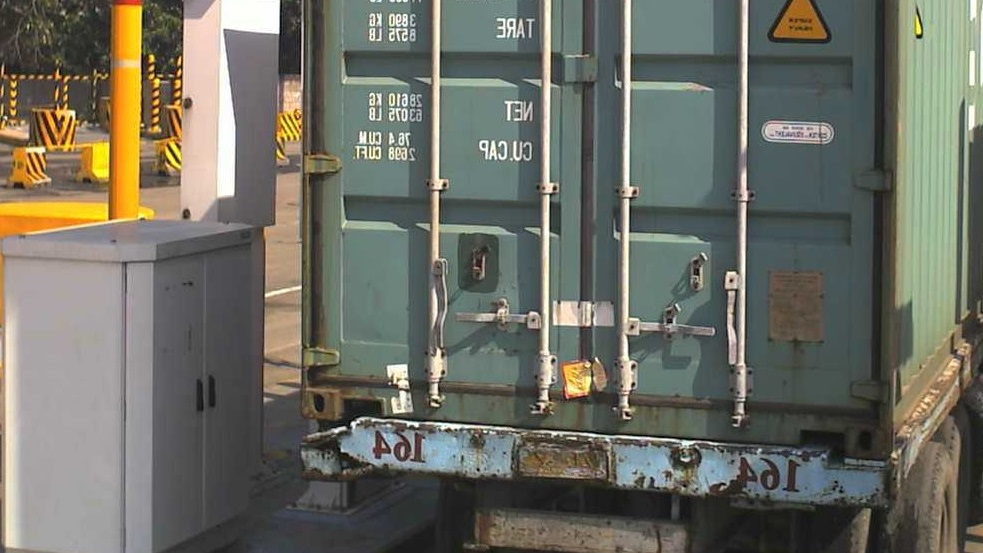container_door: (297, 1, 897, 465)
